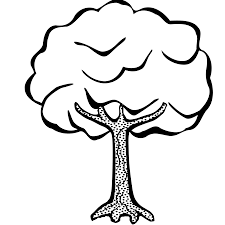tree: (13, 6, 225, 207)
